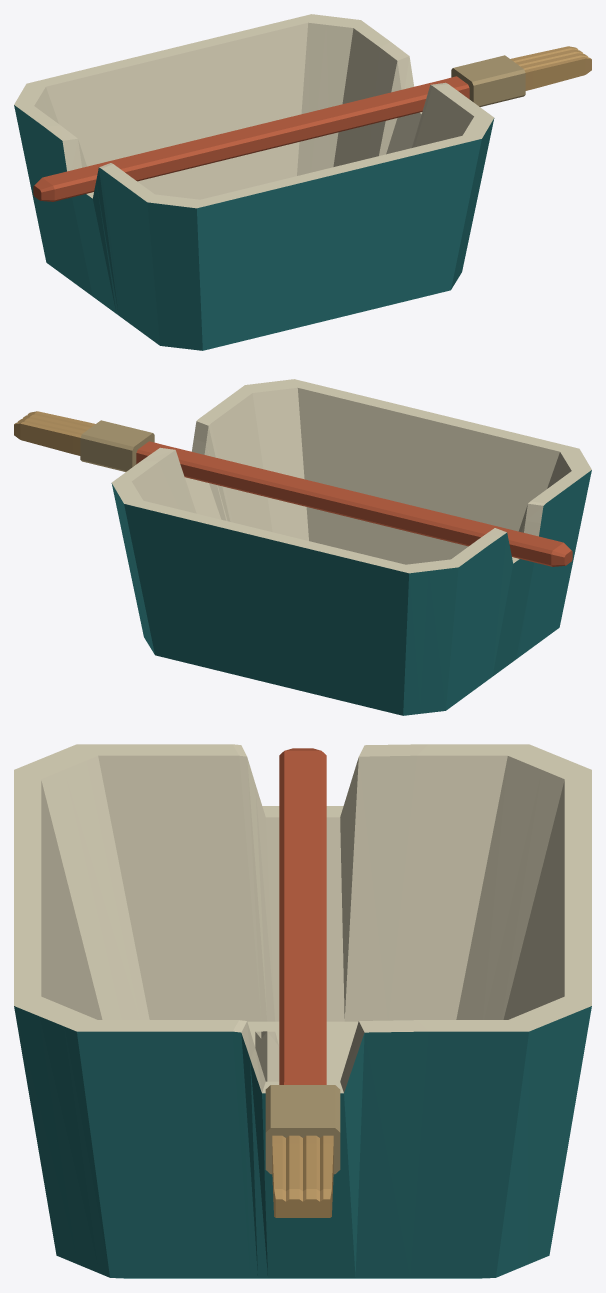
3 views of the same model, one above another, from view 1: azimuth 30°, elevation 25°; view 2: azimuth 150°, elevation 25°; view 3: azimuth 270°, elevation 25° (orthographic). The views are drawn at different scales.
Parts seen in each view (by area): view 1: Bucket_IntegralFloorRibsAndSaddles, Brush_ContinuousHandle, Brush_ThickHollowFerrule, Brush_ClosedGroovedBristles; view 2: Bucket_IntegralFloorRibsAndSaddles, Brush_ContinuousHandle, Brush_ThickHollowFerrule, Brush_ClosedGroovedBristles; view 3: Bucket_IntegralFloorRibsAndSaddles, Brush_ContinuousHandle, Brush_ClosedGroovedBristles, Brush_ThickHollowFerrule.
Boxes of the visible parts, <box> form: Bucket_IntegralFloorRibsAndSaddles: <box>14,14,494,350</box>; Brush_ContinuousHandle: <box>33,76,469,201</box>; Brush_ThickHollowFerrule: <box>451,55,525,106</box>; Brush_ClosedGroovedBristles: <box>510,46,591,90</box>; Bucket_IntegralFloorRibsAndSaddles: <box>111,379,591,715</box>; Brush_ContinuousHandle: <box>136,441,572,566</box>; Brush_ThickHollowFerrule: <box>80,420,154,471</box>; Brush_ClosedGroovedBristles: <box>14,411,95,455</box>; Bucket_IntegralFloorRibsAndSaddles: <box>14,744,591,1278</box>; Brush_ContinuousHandle: <box>279,748,326,1084</box>; Brush_ClosedGroovedBristles: <box>272,1135,333,1217</box>; Brush_ThickHollowFerrule: <box>265,1085,340,1174</box>.
Bounding box in the file's own units: 0.63 × 0.18 × 0.34.
